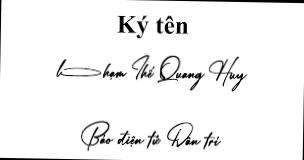text: (54, 49, 248, 92), (78, 118, 222, 154), (116, 13, 190, 40)
